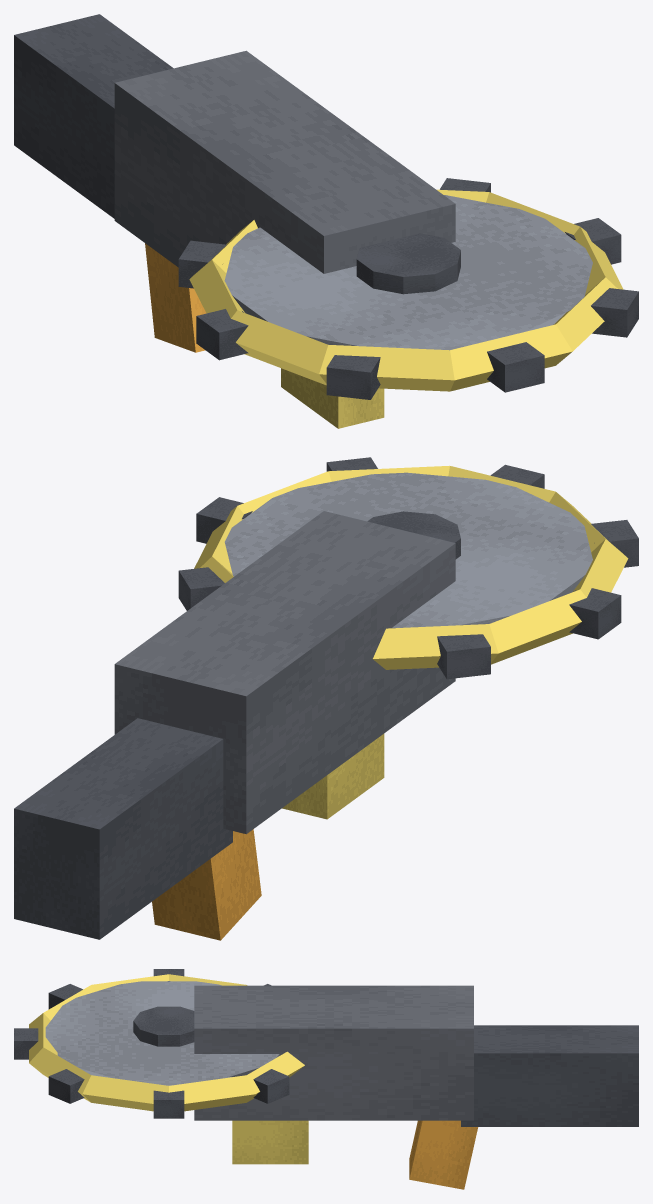
Rendered from weapon_sawlauncher.glb.
3 renders of one model, top to bottom at view 1: azimuth 30°, elevation 25°; view 2: azimuth 150°, elevation 25°; view 3: azimuth 270°, elevation 25°, orthographic. The views are drawn at different scales.
Visible parts, largest first — view 1: weapon_sawlauncher; view 2: weapon_sawlauncher; view 3: weapon_sawlauncher.
Part boxes in pixels (<box>): weapon_sawlauncher: <box>14,14,638,428</box>; weapon_sawlauncher: <box>14,457,638,940</box>; weapon_sawlauncher: <box>14,969,638,1189</box>.
Size of the model in its own units: 1.22 by 0.7473 by 2.46.
Materials: 1 (1 with a texture image).
